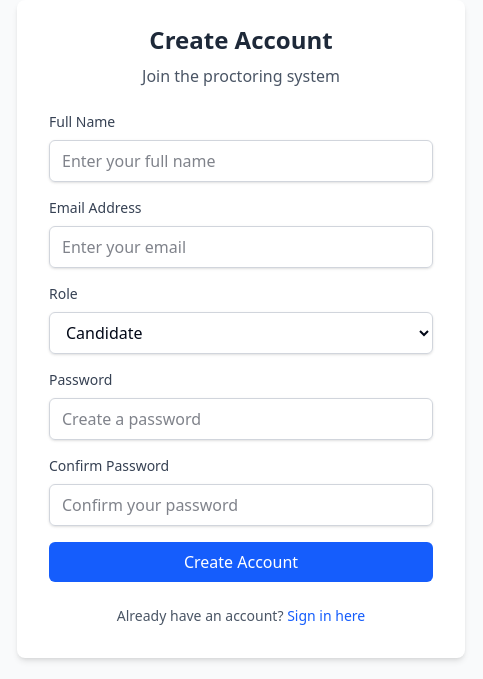
it: SignupForm › disables form during loading state
Fill form
Type "John Doe" into the field labelled "Full Name".
click(241, 161); type("John Doe")  # box [49,140,433,182]
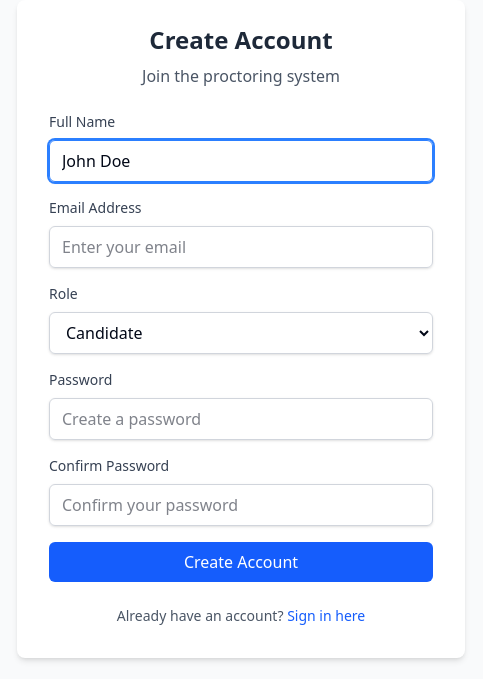
Type "test@example.com" into the field labelled "Email Address".
click(241, 247); type("test@example.com")  # box [49,226,433,268]
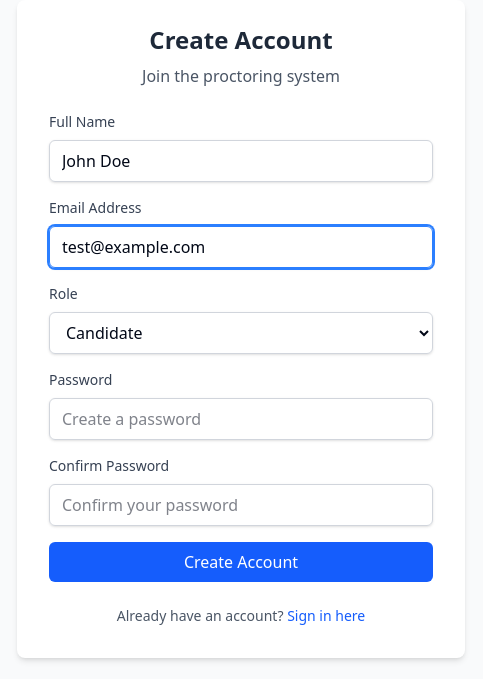
Type "Password123" into the password field labelled "Password".
click(241, 419); type("Password123")  # box [49,398,433,440]
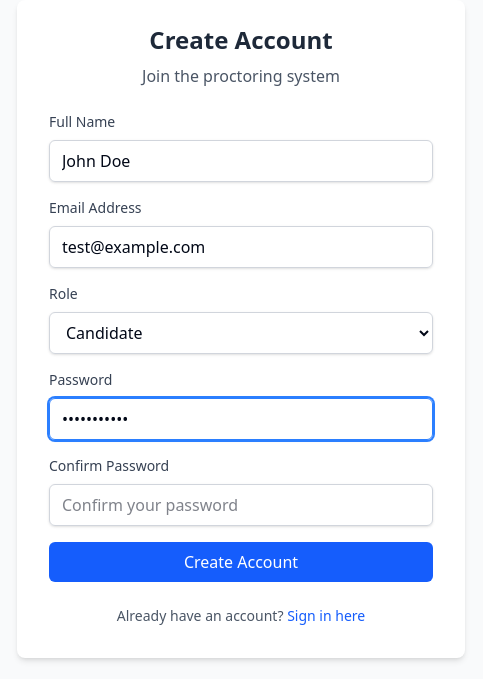
Type "Password123" into the password field labelled "Confirm Password".
click(241, 505); type("Password123")  # box [49,484,433,526]
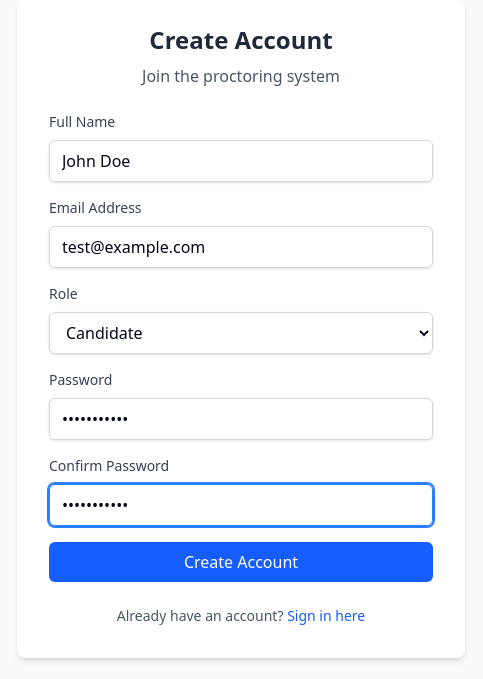
Submit form
Click the button "Create Account".
click(241, 562)  # box [49,542,433,582]
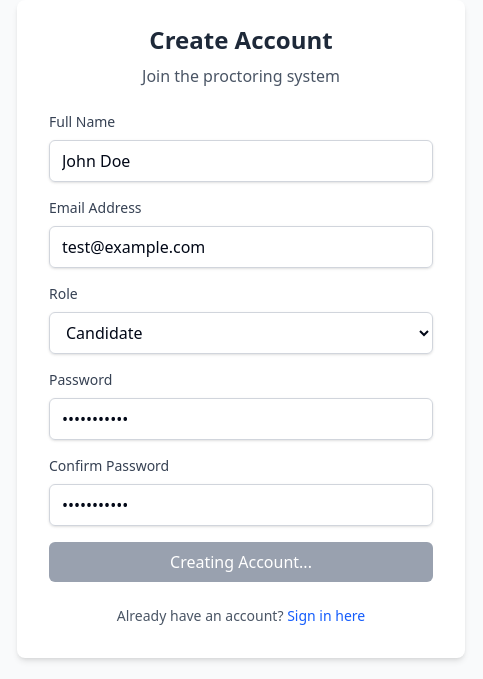
Expected: the field labelled "Full Name" is disabled, [49,140,433,182]
Expected: the button "Creating Account..." is disabled, [49,542,433,582]
